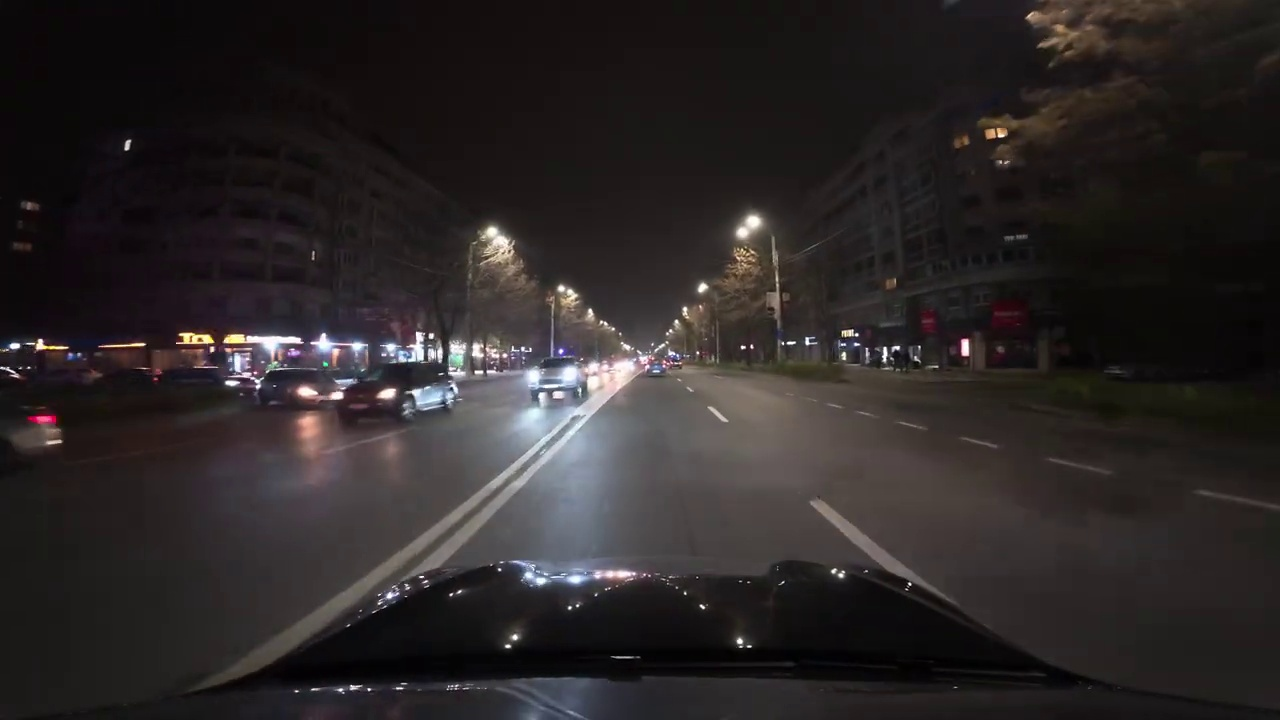acesa: (480, 226, 513, 261), (735, 212, 764, 240), (554, 284, 580, 309)
